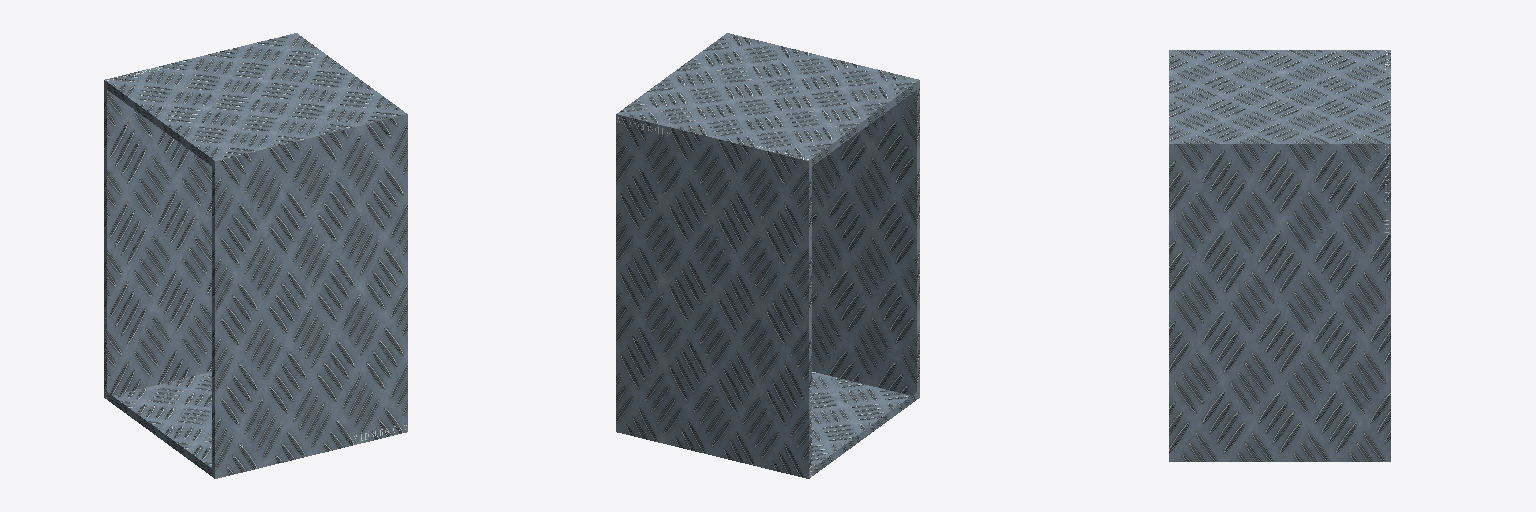
The picture shows the model from 3 angles: view 1: azimuth 30°, elevation 25°; view 2: azimuth 150°, elevation 25°; view 3: azimuth 270°, elevation 25°; orthographic projection.
Visible parts, largest first — view 1: fahrstuhl_neu_ID9; view 2: fahrstuhl_neu_ID9; view 3: fahrstuhl_neu_ID9.
Boxes of the visible parts, <box> form: fahrstuhl_neu_ID9: <box>104,33,407,478</box>; fahrstuhl_neu_ID9: <box>616,33,919,478</box>; fahrstuhl_neu_ID9: <box>1169,50,1390,461</box>.
Size of the model in its own units: 0.038 by 0.06 by 0.038.
1 materials, 1 textured.